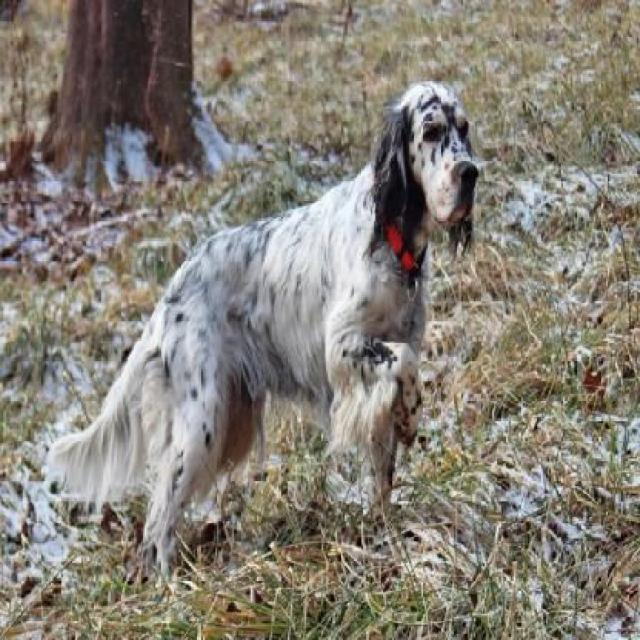animals: (84, 71, 531, 572)
